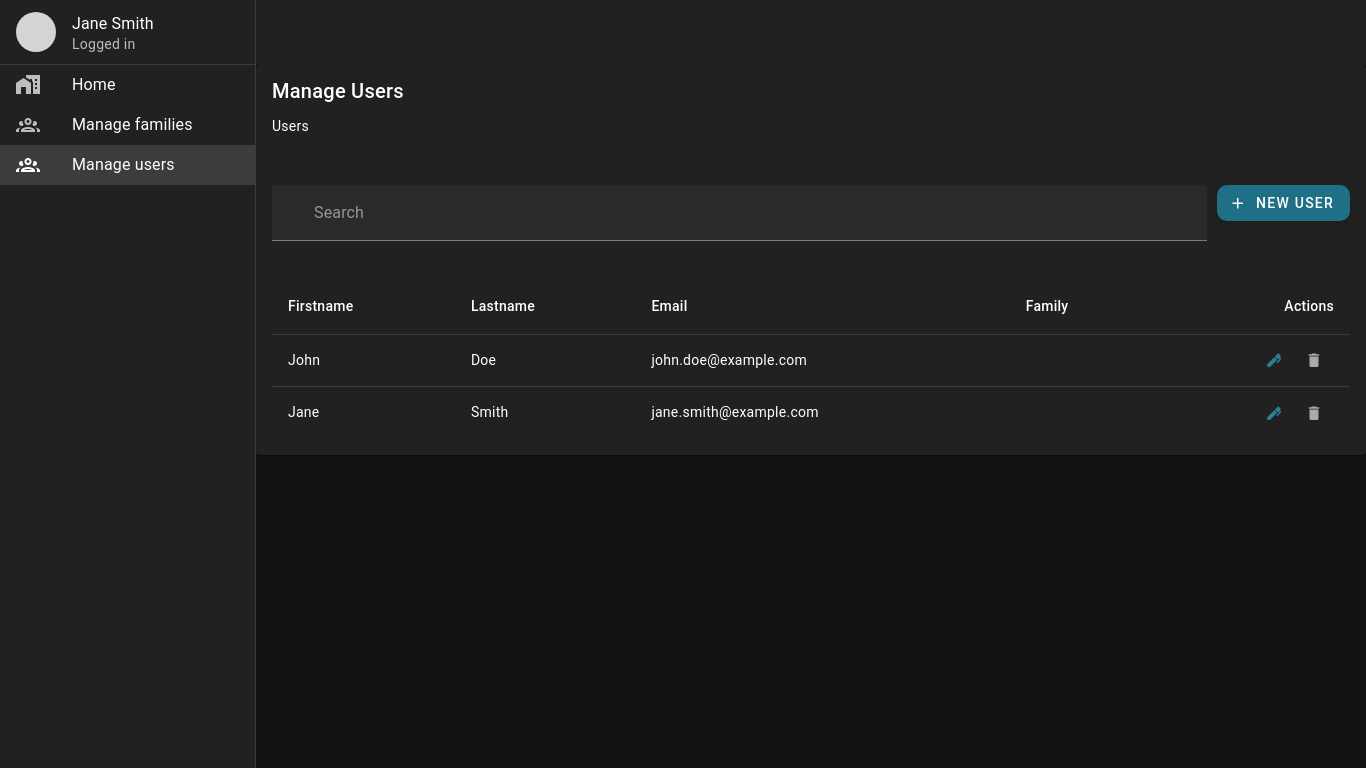
Scenario: Manage Users Page › should display "No results found" when no users match the search
// Typ een zoekterm die geen resultaten heeft
Type "Nonexistent User" into the field with id "searchbar".
click(758, 213); type("Nonexistent User")  # box [308, 185, 1207, 241]
Then press Enter
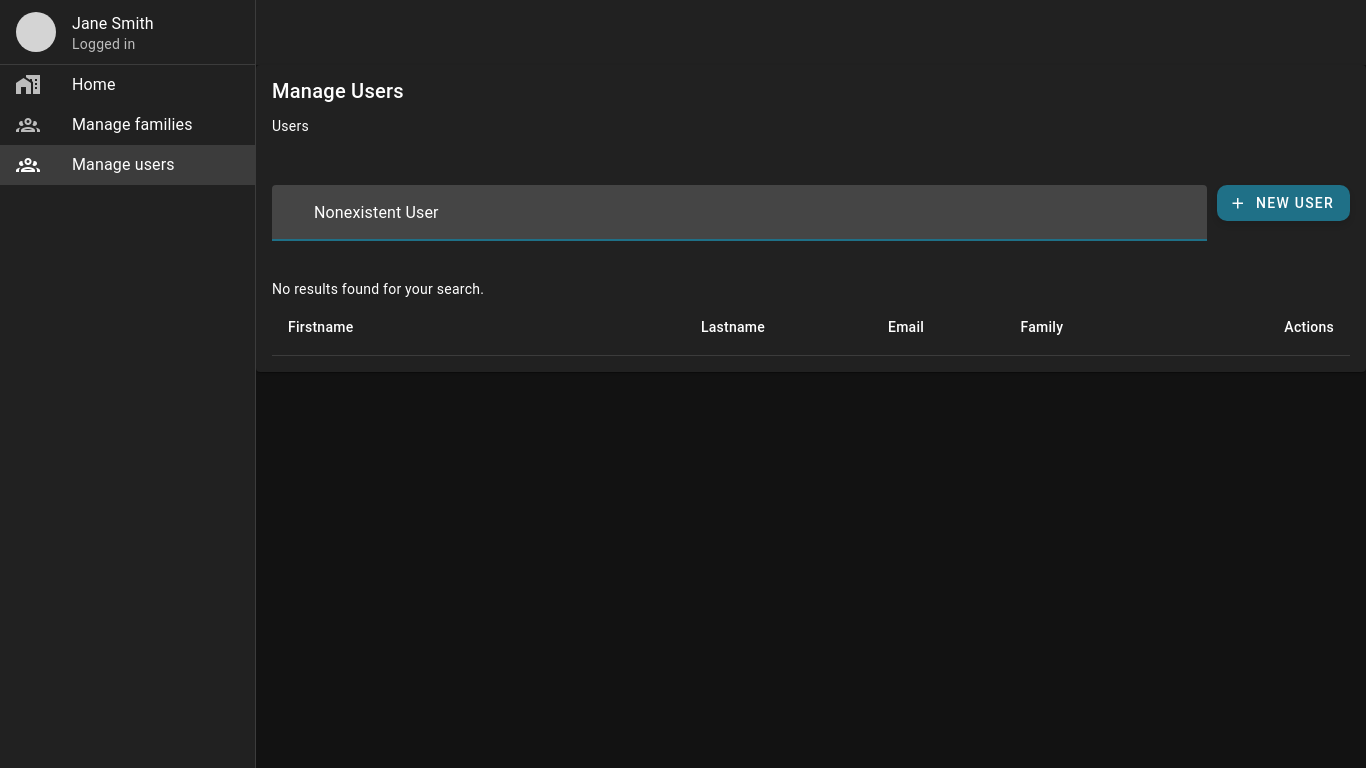
expect the text "No results found for your search." is shown: met, box [272, 281, 484, 297]
